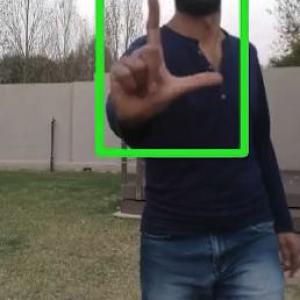land_hand: (107, 0, 224, 128)
